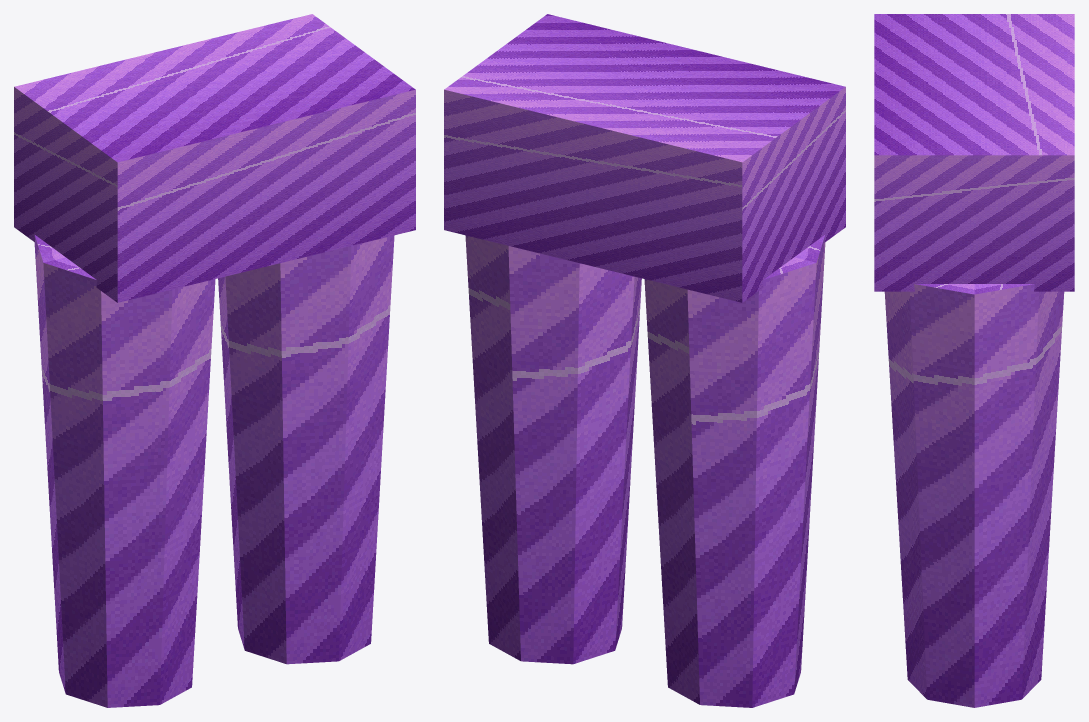
The model's file is calcas_de_ametista.glb.
The picture shows the model from 3 angles, left to right: view 1: azimuth 30°, elevation 25°; view 2: azimuth 150°, elevation 25°; view 3: azimuth 270°, elevation 25°; orthographic projection. The views are drawn at different scales.
Parts seen in each view (by area): view 1: calcas_de_ametista; view 2: calcas_de_ametista; view 3: calcas_de_ametista.
Boxes of the visible parts, bbox=[...] form: calcas_de_ametista: bbox=[14, 14, 415, 707]; calcas_de_ametista: bbox=[444, 14, 845, 707]; calcas_de_ametista: bbox=[874, 14, 1074, 707].
Bounding box in the file's own units: 0.46 × 0.73 × 0.24.
1 material, 1 textured.
